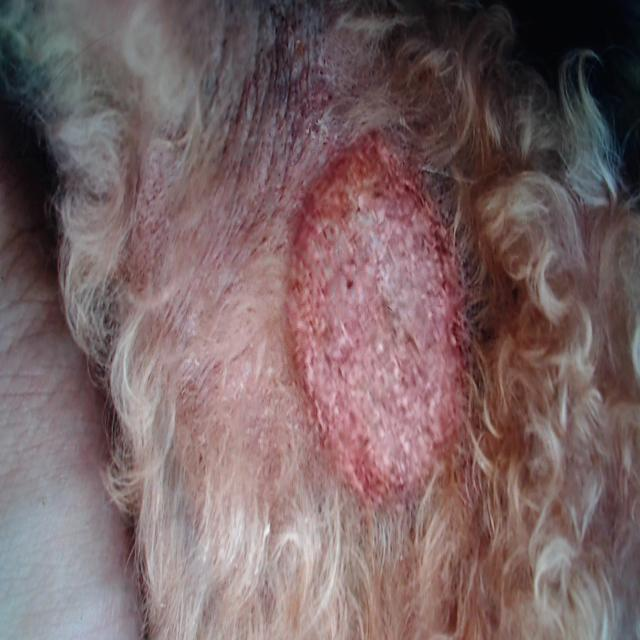ringworm: (275, 139, 479, 492)
